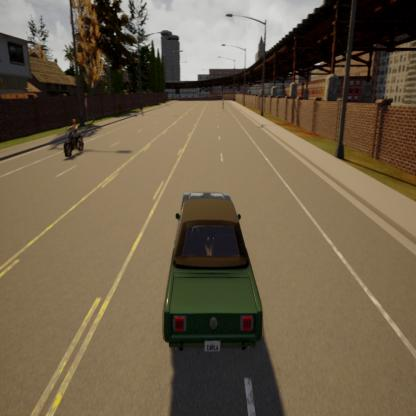Cars: (154, 178, 272, 375)
